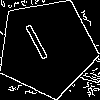I: (22, 22, 56, 70)
